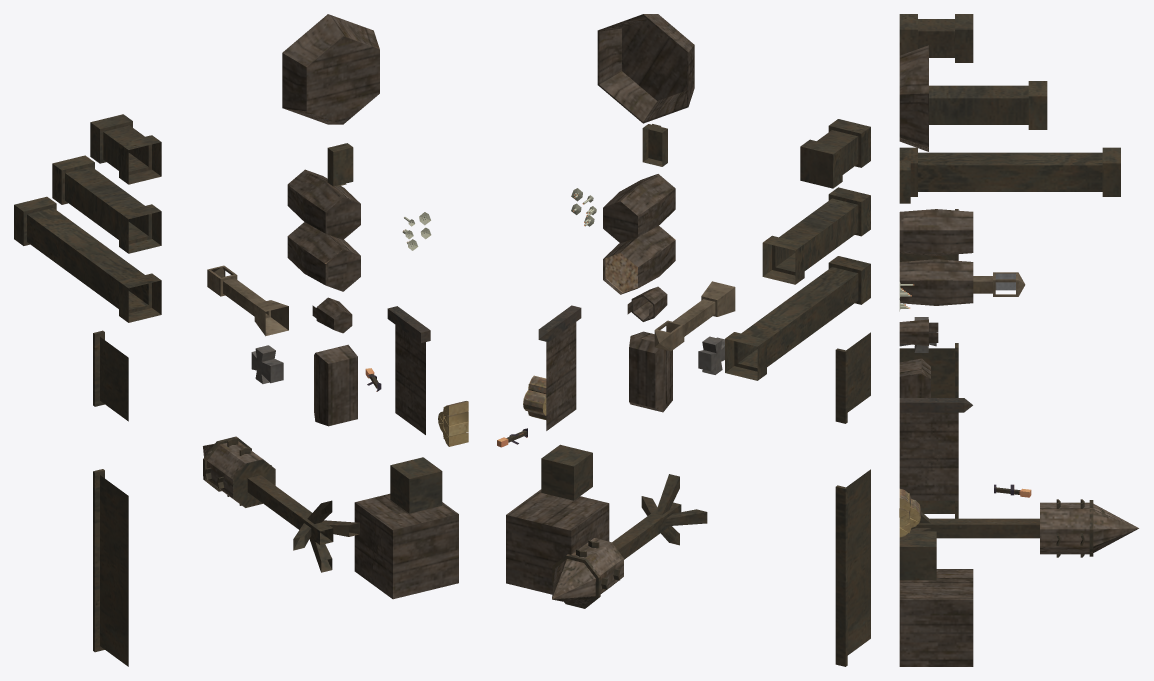
File: OtherDecor.fbx
The picture shows the model from 3 angles, left to right: view 1: azimuth 30°, elevation 25°; view 2: azimuth 150°, elevation 25°; view 3: azimuth 270°, elevation 25°; orthographic projection. The views are drawn at different scales.
Visible parts, largest first — view 1: WoodCrate, WoodTub, Pillar_3m, Birdhouse, Fence_Railing3m, Pillar_2m, Pillar_1m, Barrel_Closed, Barrel_Open, Chest, Fence_1.5, WoodCrate_Small (+7 smaller); view 2: WoodTub, Pillar_3m, WoodCrate, Birdhouse, Fence_Railing3m, Pillar_2m, Pillar_1m, Barrel_Closed, Barrel_Open, Chest, Fence_1.5, Fence_Railing1.5m (+7 smaller); view 3: Pillar_3m, WoodCrate, Birdhouse, Fence_1.5, Pillar_2m, Barrel_Closed, Barrel_Open, Pillar_1m, WoodTub, Fence_Railing3m, WoodCrate_Small, Chest (+6 smaller).
Part boxes in pixels (<box>): WoodCrate: <box>354,493,458,599</box>; WoodTub: <box>282,14,379,124</box>; Pillar_3m: <box>14,196,161,322</box>; Birdhouse: <box>203,436,359,572</box>; Fence_Railing3m: <box>93,469,128,666</box>; Pillar_2m: <box>52,155,161,253</box>; Pillar_1m: <box>90,114,161,184</box>; Barrel_Closed: <box>287,169,360,239</box>; Barrel_Open: <box>287,222,360,291</box>; Chest: <box>314,344,357,426</box>; Fence_1.5: <box>395,325,425,434</box>; WoodCrate_Small: <box>390,457,442,513</box>; WoodTub: <box>597,14,694,123</box>; Pillar_3m: <box>725,256,870,380</box>; WoodCrate: <box>506,489,609,594</box>; Birdhouse: <box>552,474,707,608</box>; Fence_Railing3m: <box>835,469,870,666</box>; Pillar_2m: <box>762,187,870,284</box>; Pillar_1m: <box>800,119,870,188</box>; Barrel_Closed: <box>603,174,675,243</box>; Barrel_Open: <box>603,225,675,294</box>; Chest: <box>629,331,672,412</box>; Fence_1.5: <box>546,322,576,430</box>; Fence_Railing1.5m: <box>835,332,870,423</box>; Pillar_3m: <box>899,147,1120,196</box>; WoodCrate: <box>899,569,973,666</box>; Birdhouse: <box>910,499,1138,557</box>; Fence_1.5: <box>899,412,958,500</box>; Pillar_2m: <box>929,81,1047,129</box>; Barrel_Closed: <box>899,209,973,255</box>; Barrel_Open: <box>899,259,973,305</box>; Pillar_1m: <box>899,14,973,62</box>; WoodTub: <box>899,45,928,151</box>; Fence_Railing3m: <box>899,343,958,518</box>; WoodCrate_Small: <box>899,531,936,580</box>; Chest: <box>899,358,930,397</box>.
Size of the model in its own units: 523 by 860 by 325.
